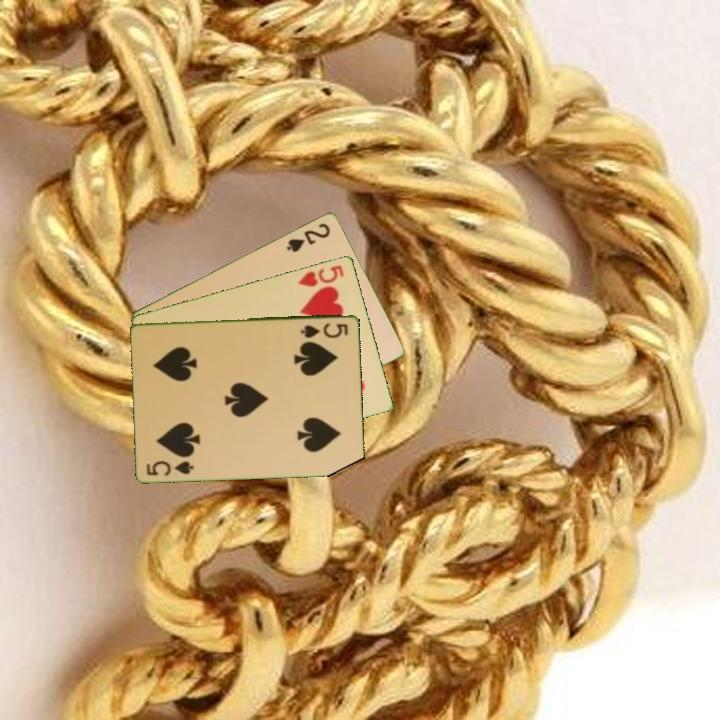2s: (283, 219, 333, 255)
5h: (295, 261, 347, 289)
5s: (297, 319, 351, 341), (143, 457, 197, 478)
